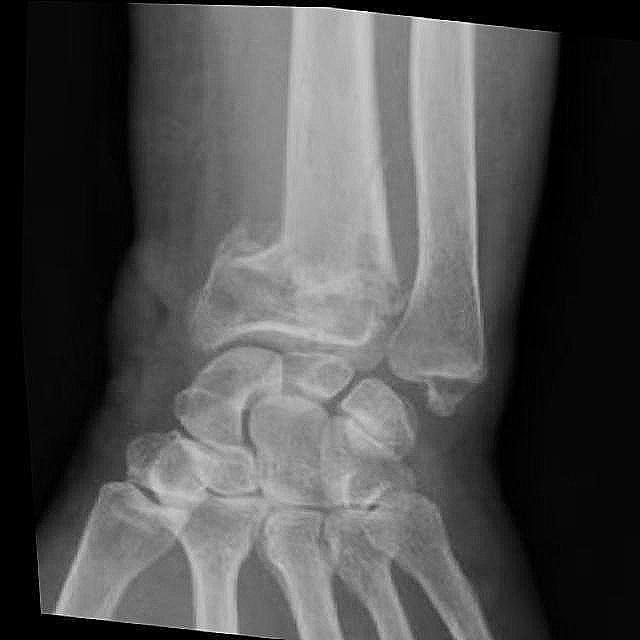bone: (174, 192, 412, 371)
